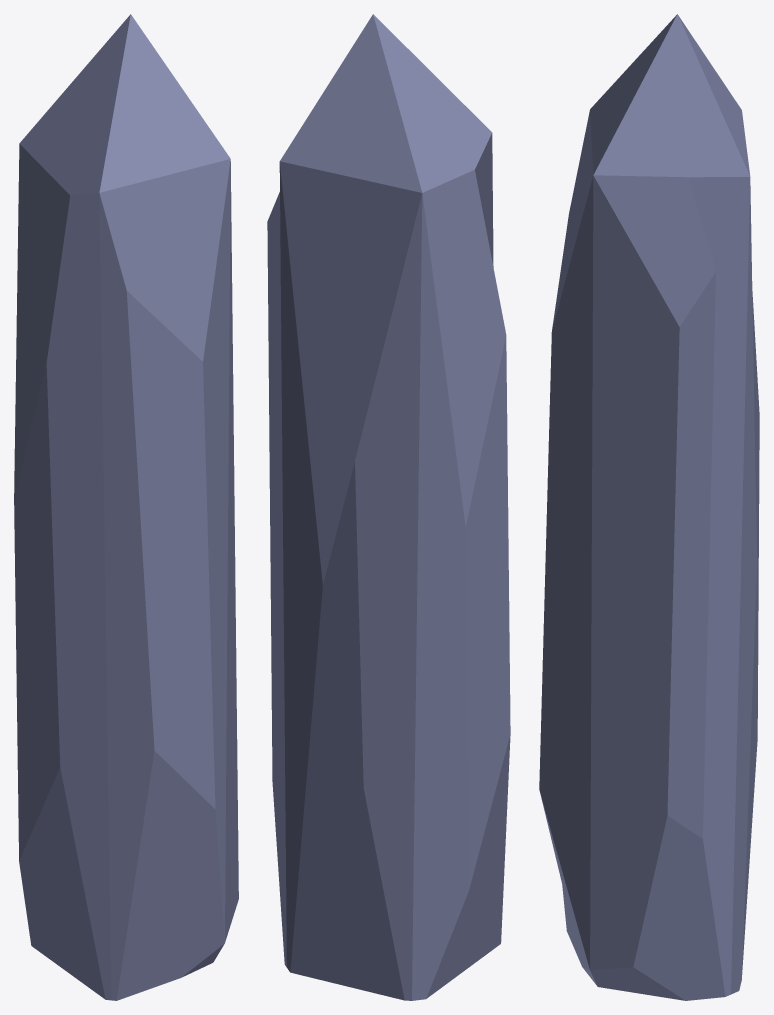
Rendered from tall_crystal.fbx.
3 renders of one model, left to right at view 1: azimuth 30°, elevation 25°; view 2: azimuth 150°, elevation 25°; view 3: azimuth 270°, elevation 25°, orthographic. The views are drawn at different scales.
Visible parts, largest first — view 1: Cube.001; view 2: Cube.001; view 3: Cube.001.
Boxes of the visible parts, x1,y1,x2,y2 form: Cube.001: (14,14,238,1000); Cube.001: (267,14,510,1000); Cube.001: (539,14,759,1000).
Size of the model in its own units: 227 by 1002 by 210.
